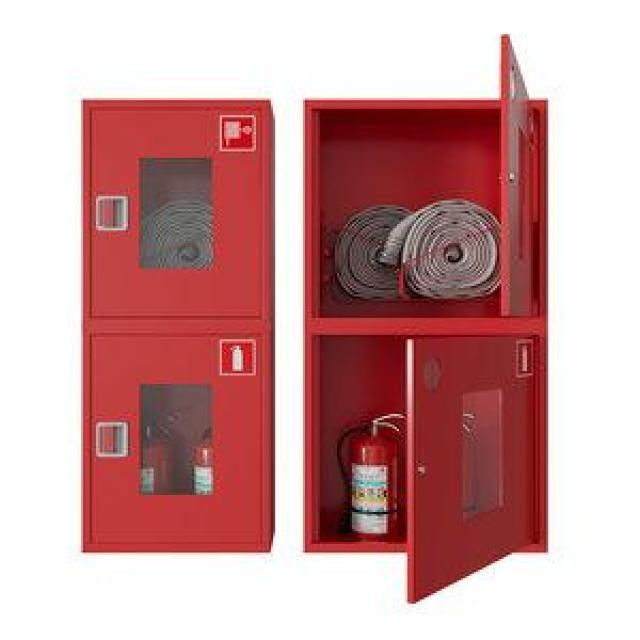fire_extinguisher: (320, 403, 405, 544), (106, 406, 184, 536), (411, 404, 483, 543), (189, 405, 257, 540)
